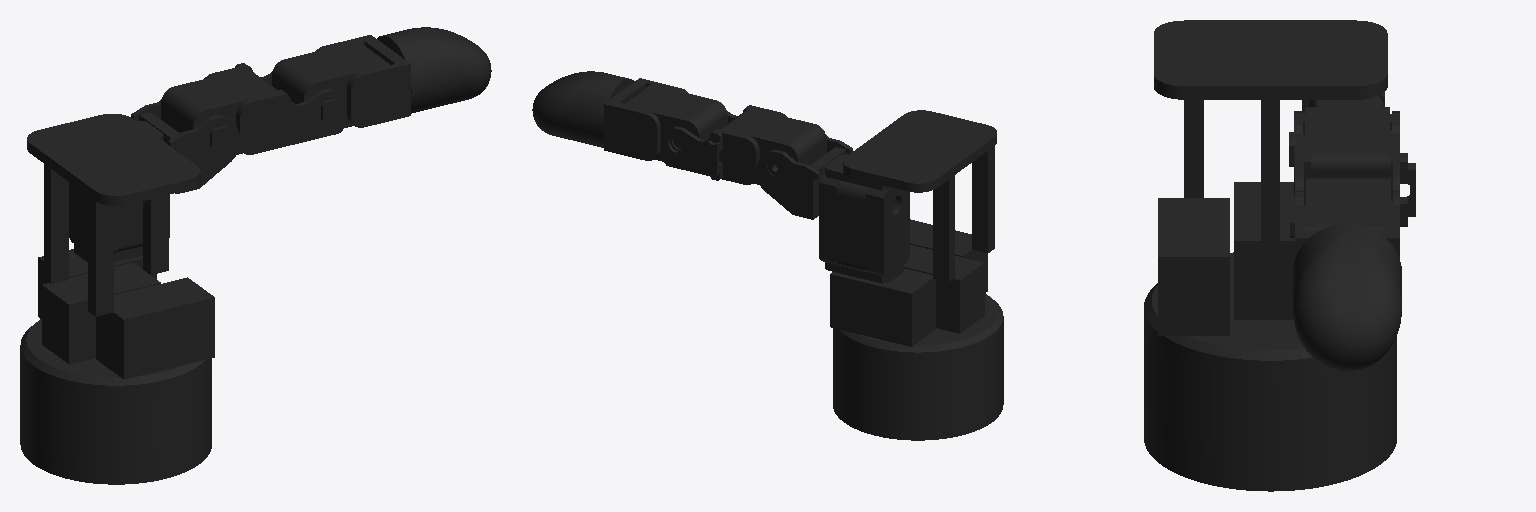
robot.urdf — delto_gripper_3f:
<?xml version="1.0" ?>

<robot name="delto_gripper_3f">

   <material name="silver">
      <color rgba="0.700 0.700 0.700 1"/>
   </material>

   <material name="black">
      <color rgba="0.196 0.196 0.196 1"/>
   </material>

   <material name="white">
      <color rgba="0.8 0.8 0.8 1"/>
   </material>

   <link name="delto_base_link">

      <inertial>
         <origin xyz="0.000883196 -7.49966e-05 0.0324928" rpy="0 0 0"/>
         <mass value="0.370"/>
         <inertia ixx="0.0003269" iyy="0.000311459" izz="0.000182324" ixy="-4.81638e-07" ixz="2.90647e-06" iyz="1.4022e-06"/>
      </inertial>

      <visual>
         <origin xyz="0 0 0" rpy="0 0 0"/>
         <geometry>
            <mesh filename="meshes/visual/delto_base_link.stl" scale="0.001 0.001 0.001"/>
         </geometry>
         <material name="black"/>
      </visual>

      <collision>
         <origin xyz="0 0 0" rpy="0 0 0"/>
         <geometry>
            <mesh filename="meshes/collision/delto_base_link.stl" scale="0.001 0.001 0.001"/>
         </geometry>
      </collision>

   </link>





<link name="F3_01">

      <inertial>
      
         <origin xyz="0.000365161 1.10309e-07 0.0215156" rpy= "0 0 0"/>
         <mass value="0.061"/>
         <inertia ixx="1.89742e-05" iyy="2.20546e-05" izz="7.1394e-06" ixy="0" ixz="-2.59697e-07" iyz="0"/>
      </inertial>

      <visual>
         <origin xyz="0 0 0" rpy="0 0 0"/>
         <geometry>
            <mesh filename="meshes/visual/link_01.stl" scale="0.001 0.001 0.001"/>
         </geometry>
         <material name="black"/>
      </visual>
      
      <collision>
         <origin xyz="0 0 0" rpy="0 0 0"/>
         <geometry>
            <mesh filename="meshes/collision/link_01.stl" scale="0.001 0.001 0.001"/>
         </geometry>
      </collision> 

   </link>



   <link name="F3_02">
      <inertial>
         <origin xyz="0.00353133 0.000519754 0.00690092" rpy="0 0 0"/>
         <mass value="0.025"/>
         <inertia ixx="3.51946e-06" iyy="2.02334e-06" izz="3.33911e-06" ixy="-6.14263e-08" ixz="-2.82283e-07" iyz="-1.17458e-07"/>
      </inertial>

      <visual>
         <origin xyz="0 0 0" rpy="0 0 0"/>
         <geometry>
            <mesh filename="meshes/visual/link_02.stl" scale="0.001 0.001 0.001"/>
         </geometry>
         <material name="black"/>
      </visual>

      <collision>
         <origin xyz="0 0 0" rpy="0 0 0"/>
         <geometry>
            <mesh filename="meshes/collision/link_02.stl" />
         </geometry>
      </collision>
   </link>
   <link name="F3_03">
      <inertial>
         <origin xyz="-0.0112398 9.3567e-05 -0.000281754" rpy="0 0 0"/>
         <mass value="0.051"/>
         <inertia ixx="4.27392e-06" iyy="9.20872e-06" izz="7.9414e-06" ixy="1.28652e-07" ixz="1.82142e-08" iyz="-3.12743e-09"/>
      </inertial>

      <visual>
         <origin xyz="0 0 0" rpy="0 0 0"/>
         <geometry>
            <mesh filename="meshes/visual/link_03.stl" scale="0.001 0.001 0.001"/>
         </geometry>
         <material name="black"/>
      </visual>
      <collision>
         <origin xyz="0 0 0" rpy="0 0 0"/>
         <geometry>
            <mesh filename="meshes/collision/link_03.stl" scale="0.001 0.001 0.001"/>
         </geometry>
      </collision>
   </link>
   <link name="F3_04">
      <inertial>
         <origin xyz="-0.0241548 0.000398931 -0.0001378" rpy="0 0 0"/>
         <mass value="0.0710"/>
         <inertia ixx="5.92843e-06" iyy="3.20691e-05" izz="3.11001e-05" ixy="9.13193e-07" ixz="3.8959e-08" iyz="-1.03979e-09"/>
      </inertial>

      <visual>
         <origin xyz="0 0 0" rpy="0 0 0"/>
         <geometry>
            <mesh filename="meshes/visual/link_04.stl" scale="0.001 0.001 0.001"/>
         </geometry>
         <material name="black"/>
      </visual>

      <collision>
         <origin xyz="0 0 0" rpy="0 0 0"/>
         <geometry>
            <mesh filename="meshes/collision/link_04.stl" scale="0.001 0.001 0.001"/>
         </geometry>
      </collision>

   </link>
   <link name="F3_TIP">
      <inertial>
         <origin xyz="0 0 0" rpy="0 0 0"/>
         <mass value="0.0"/>
         <inertia ixx="0" iyy="0" izz="0" ixy="0" ixz="0" iyz="0"/>
      </inertial>
   </link>











   <!--Joint -->



   <joint name = "F3M1" type = "revolute">
      <origin xyz="0.01320 0.01960 0.06180" rpy="0 0 3.141592"/>
      <parent link="delto_base_link"/>
      <child link="F3_01"/>
      <axis xyz="0.0 0.0 1.0"/>
      <limit effort="10.0" velocity="5.0" lower="-1.0472" upper="1.0472" />
      <dynamics damping="1.1" friction="1.1"/>
   </joint>

   <joint name = "F3M2" type = "revolute">
      <origin xyz="-0.01420 0.0 0.03030" rpy="0 -1.57078 0"/>
      <parent link="F3_01"/>
      <child link="F3_02"/>
      <axis xyz="0.0 0.0 1.0"/>
      <limit effort="10.0" velocity="5.0" lower="-1.76278" upper="1.76278" />
      <dynamics damping="1.1" friction="1.1"/>
   </joint>
   <joint name = "F3M3" type = "revolute">
      <origin xyz="0.01010 0 0.01750 " rpy="0 1.57078 1.57078"/>
      <parent link="F3_02"/>
      <child link="F3_03"/>
      <axis xyz="0.0 0.0 1.0"/>
      <limit effort="10.0" velocity="5.0" lower="-0.15708" upper="2.53073" />
      <dynamics damping="1.1" friction="1.1"/>
   </joint>

   <joint name = "F3M4" type = "revolute">
      <origin xyz="-0.0434 0.0 0.0" rpy="0 0 0"/>
      <parent link="F3_03"/>
      <child link="F3_04"/>
      <axis xyz="0.0 0.0 1.0"/>
      <limit effort="10.0" velocity="5.0" lower="-0.226893" upper="2.02458"/>
      <dynamics damping="1.1" friction="1.1"/>
   </joint>   

    <joint name = "TIP3" type="fixed">
      <origin xyz="-0.05587 -0.00922 0.0 " rpy="1.57078 0 0 "/>
      <parent link="F3_04"/>
      <child link="F3_TIP"/>
   </joint>



</robot>

--- Render facts (derived) ---
Views: 3 orthographic renders of the robot side by side, from view 1: azimuth 30°, elevation 25°; view 2: azimuth 150°, elevation 25°; view 3: azimuth 270°, elevation 25°.
Model delto_gripper_3f with 6 links and 5 joints (4 revolute, 1 fixed), rooted at delto_base_link, posed all joints at 0.
Visible links, largest first — view 1: delto_base_link, F3_04, F3_03, F3_02, F3_01; view 2: delto_base_link, F3_04, F3_01, F3_03, F3_02; view 3: delto_base_link, F3_04, F3_03, F3_02, F3_01.
Link boxes in pixels (x1,y1,x2,y2): delto_base_link: (20, 114, 214, 484); F3_04: (272, 27, 491, 127); F3_03: (161, 63, 346, 154); F3_02: (131, 99, 239, 193); F3_01: (69, 121, 169, 261); delto_base_link: (830, 110, 1003, 440); F3_04: (532, 71, 727, 161); F3_01: (819, 154, 909, 283); F3_03: (661, 105, 826, 184); F3_02: (756, 135, 852, 219); delto_base_link: (1144, 20, 1396, 491); F3_04: (1293, 178, 1401, 370); F3_03: (1290, 107, 1415, 237); F3_02: (1289, 111, 1399, 197); F3_01: (1309, 92, 1384, 106).
Bounding box of the posed robot: 0.1886 × 0.0698 × 0.116 m (x, y, z).
Meshes: 5 distinct files referenced, 5 mesh visuals loaded (5 binary STL).